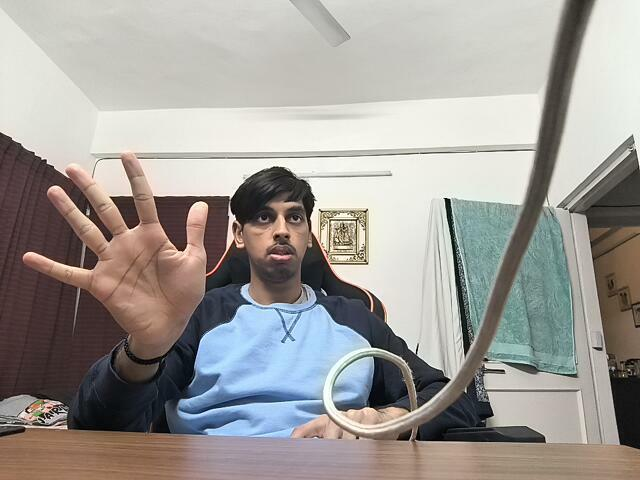STOP: (18, 129, 216, 352)
